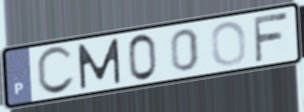0: (167, 27, 203, 75), (126, 32, 158, 83)
C: (34, 44, 78, 98)
F: (250, 9, 290, 64)
M: (75, 36, 123, 92)
O: (209, 19, 249, 68)
